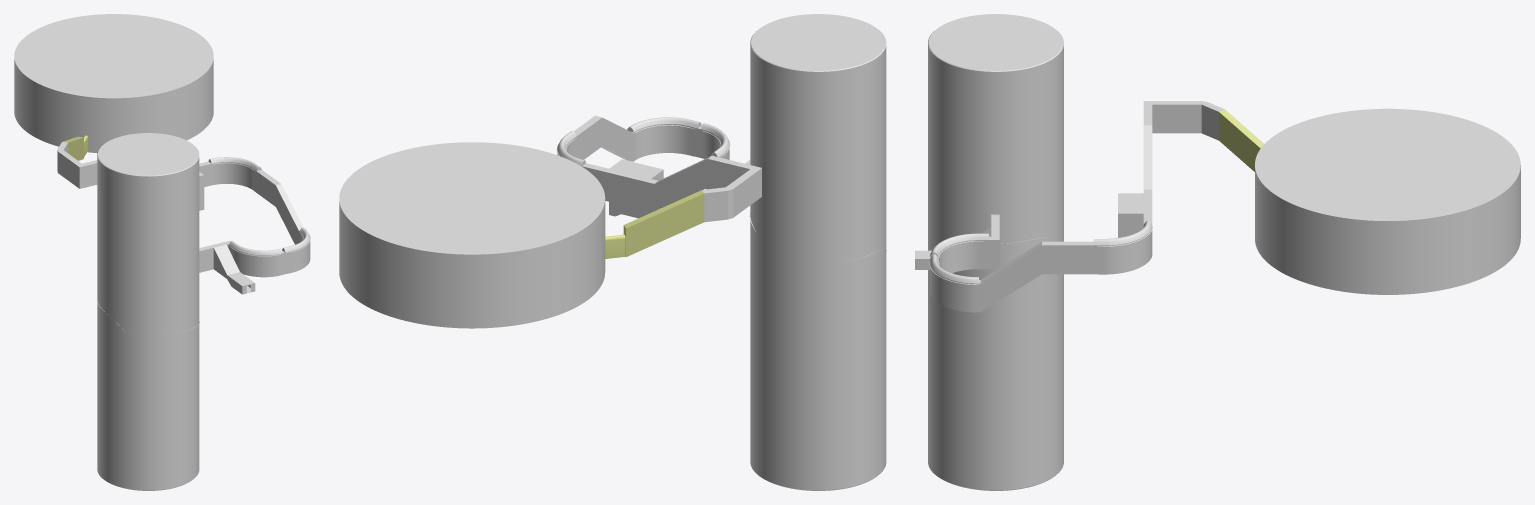
Rendered from lock_1.fbx.
3 views of the same model, side by side, from view 1: azimuth 30°, elevation 25°; view 2: azimuth 150°, elevation 25°; view 3: azimuth 270°, elevation 25° (orthographic). The views are drawn at different scales.
Visible parts, largest first — view 1: Cylinder.003, Cylinder.002, block_A.024, block_A.019, block_A.026, block_A.023, block_A.022, block_A.012, block_A.027, block_A.013; view 2: Cylinder.003, Cylinder.002, block_A.012, block_A.017, block_A.023, block_A.015, block_A.022, block_A.024, block_A.010, block_A.014; view 3: Cylinder.003, Cylinder.002, block_A.019, block_A.022, block_A.023, block_A.024, block_A.012, block_A.017, block_A.020, block_A.021, block_A.009, block_A.011 (+1 smaller).
Boxes of the visible parts, box(x1,y1,x2,y2) form: Cylinder.003: box(97, 133, 199, 490); Cylinder.002: box(14, 14, 213, 152); block_A.024: box(228, 241, 283, 277); block_A.019: box(208, 157, 262, 192); block_A.026: box(209, 242, 255, 294); block_A.023: box(282, 227, 310, 274); block_A.022: box(275, 184, 302, 244); block_A.012: box(62, 134, 88, 160); block_A.027: box(199, 246, 212, 272); block_A.013: box(82, 160, 97, 187); Cylinder.003: box(750, 14, 886, 490); Cylinder.002: box(339, 142, 605, 328); block_A.012: box(605, 190, 704, 258); block_A.017: box(604, 159, 663, 218); block_A.023: box(627, 117, 701, 161); block_A.015: box(654, 156, 710, 210); block_A.022: box(601, 117, 633, 161); block_A.024: box(699, 123, 730, 159); block_A.010: box(702, 187, 727, 222); block_A.014: box(707, 155, 732, 188); Cylinder.003: box(928, 14, 1063, 490); Cylinder.002: box(1255, 108, 1520, 294); block_A.019: box(1091, 220, 1152, 274); block_A.022: box(980, 242, 1041, 311); block_A.023: box(929, 254, 980, 312); block_A.024: box(929, 233, 991, 273); block_A.012: box(1219, 109, 1263, 171); block_A.017: box(1118, 189, 1152, 237); block_A.020: box(1066, 241, 1091, 274); block_A.021: box(1042, 241, 1066, 274); block_A.009: box(1177, 101, 1201, 133); block_A.011: box(1152, 101, 1176, 133).
Bounding box in the file's own units: 15319 × 19031 × 24749.
